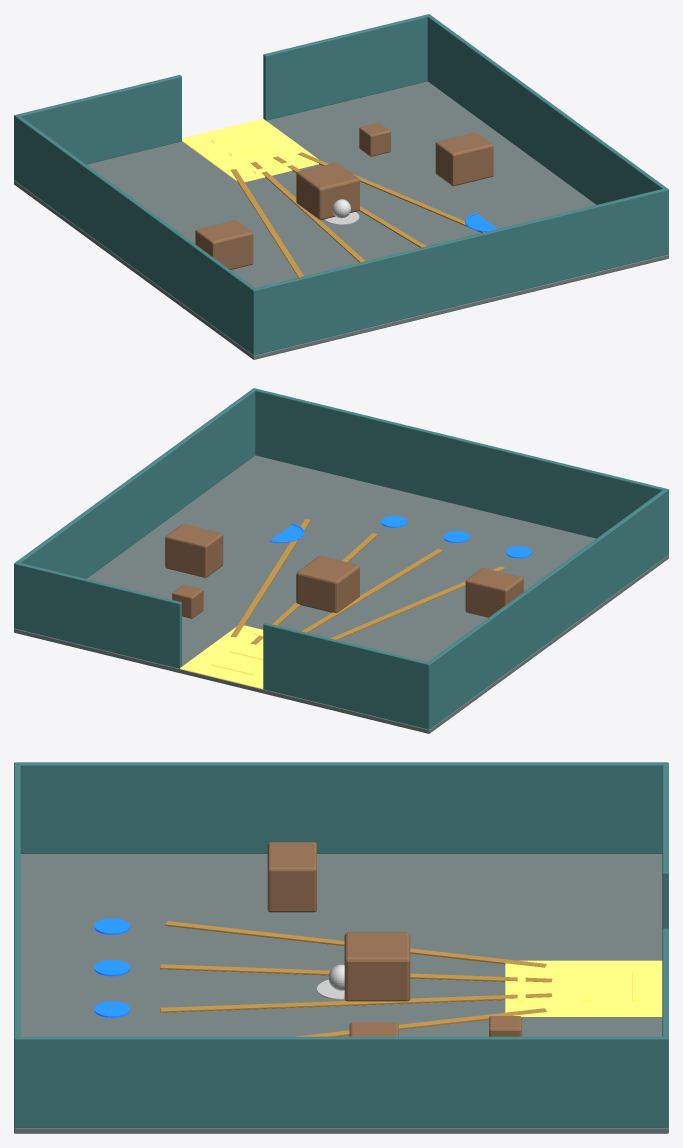
File: saltglass_brine_docks_refined.glb
The picture shows the model from 3 angles, top to bottom: view 1: azimuth 30°, elevation 25°; view 2: azimuth 150°, elevation 25°; view 3: azimuth 270°, elevation 25°; orthographic projection. The views are drawn at different scales.
Parts seen in each view (by area): view 1: GB_floor_brine_docks, GB_wall_south, GB_wall_west, GB_wall_east, GB_wall_north_east, GB_wall_north_west, GB_exit_route, GB_cover_crate_center, GB_cover_crate_east, GB_cover_crate_west, GB_cover_bollard, GB_lane_01 (+3 smaller); view 2: GB_floor_brine_docks, GB_wall_south, GB_wall_west, GB_wall_east, GB_wall_north_west, GB_wall_north_east, GB_cover_crate_center, GB_exit_route, GB_cover_crate_east, GB_cover_crate_west, GB_lane_02, GB_lane_04 (+2 smaller); view 3: GB_floor_brine_docks, GB_wall_east, GB_wall_west, GB_exit_route, GB_cover_crate_center, GB_cover_crate_west, GB_wall_south, GB_lane_03, GB_lane_01, GB_lane_02, GB_wall_north_west, GB_wall_north_east (+3 smaller).
Boxes of the visible parts, x1=… form: GB_floor_brine_docks: x1=14, y1=81, x2=668, y2=359; GB_wall_south: x1=251, y1=188, x2=668, y2=354; GB_wall_west: x1=15, y1=114, x2=257, y2=355; GB_wall_east: x1=427, y1=14, x2=668, y2=254; GB_wall_north_east: x1=263, y1=14, x2=429, y2=120; GB_wall_north_west: x1=14, y1=75, x2=181, y2=181; GB_exit_route: x1=182, y1=118, x2=318, y2=182; GB_cover_crate_center: x1=296, y1=162, x2=359, y2=220; GB_cover_crate_east: x1=435, y1=132, x2=493, y2=186; GB_cover_crate_west: x1=195, y1=220, x2=253, y2=269; GB_cover_bollard: x1=359, y1=123, x2=390, y2=156; GB_lane_01: x1=231, y1=169, x2=303, y2=277; GB_floor_brine_docks: x1=14, y1=455, x2=668, y2=733; GB_wall_south: x1=252, y1=388, x2=668, y2=555; GB_wall_west: x1=425, y1=488, x2=668, y2=729; GB_wall_east: x1=14, y1=388, x2=255, y2=628; GB_wall_north_west: x1=263, y1=623, x2=431, y2=729; GB_wall_north_east: x1=14, y1=562, x2=181, y2=668; GB_cover_crate_center: x1=296, y1=556, x2=359, y2=612; GB_exit_route: x1=180, y1=625, x2=263, y2=689; GB_cover_crate_east: x1=165, y1=524, x2=223, y2=577; GB_cover_crate_west: x1=465, y1=568, x2=523, y2=617; GB_lane_02: x1=301, y1=549, x2=442, y2=632; GB_lane_04: x1=230, y1=519, x2=310, y2=637; GB_floor_brine_docks: x1=14, y1=853, x2=668, y2=1133; GB_wall_east: x1=14, y1=1036, x2=668, y2=1127; GB_wall_west: x1=14, y1=762, x2=668, y2=853; GB_exit_route: x1=505, y1=960, x2=662, y2=1016; GB_cover_crate_center: x1=344, y1=932, x2=410, y2=1001; GB_cover_crate_west: x1=267, y1=842, x2=316, y2=912; GB_wall_south: x1=14, y1=762, x2=20, y2=1127; GB_lane_03: x1=160, y1=993, x2=552, y2=1012; GB_lane_01: x1=165, y1=921, x2=546, y2=967; GB_lane_02: x1=160, y1=964, x2=552, y2=982; GB_wall_north_west: x1=662, y1=762, x2=668, y2=928; GB_wall_north_east: x1=662, y1=928, x2=668, y2=1127.
Size of the model in its own units: 20 by 3.2 by 20.
